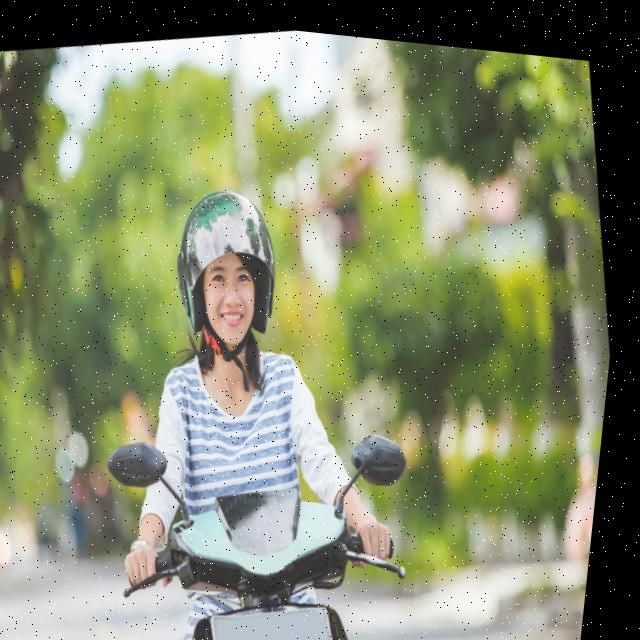helmet: (156, 163, 306, 371)
